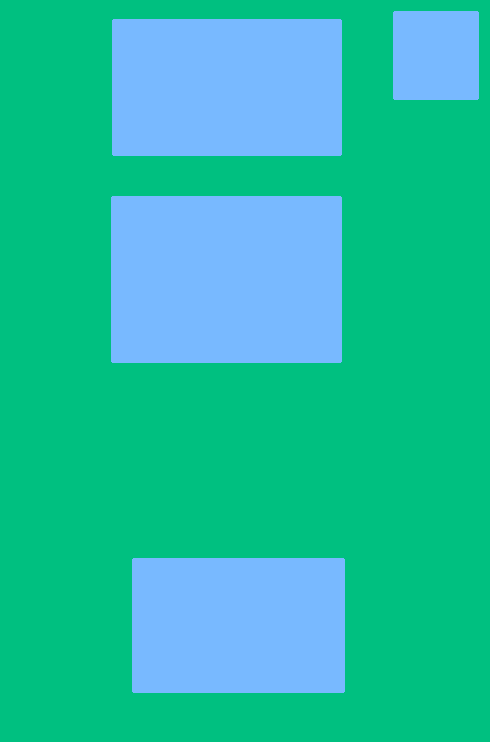Text_area: (112, 197, 340, 361), (113, 20, 340, 154), (133, 559, 343, 691), (394, 12, 477, 98)
